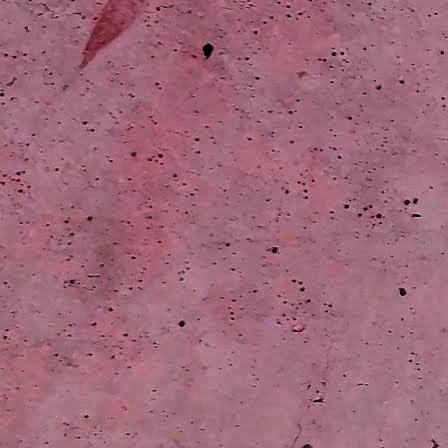crack: (284, 340, 342, 448)
hole: (197, 40, 217, 62)
